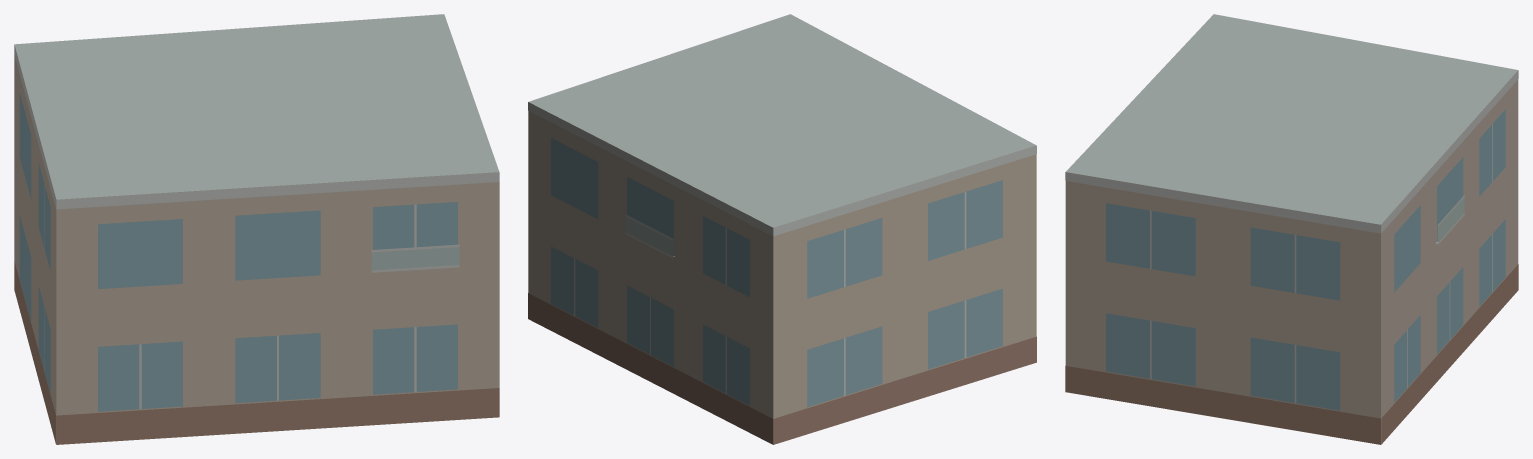
The model's file is survey-upis-32657916.glb.
The picture shows the model from 3 angles, left to right: view 1: azimuth 30°, elevation 25°; view 2: azimuth 150°, elevation 25°; view 3: azimuth 270°, elevation 25°; orthographic projection. The views are drawn at different scales.
Visible parts, largest first — view 1: survey-upis-32657916.tmp; view 2: survey-upis-32657916.tmp; view 3: survey-upis-32657916.tmp.
Part boxes in pixels (x1=…): survey-upis-32657916.tmp: x1=14, y1=14, x2=499, y2=444; survey-upis-32657916.tmp: x1=528, y1=14, x2=1036, y2=444; survey-upis-32657916.tmp: x1=1065, y1=14, x2=1518, y2=444.
Bounding box in the file's own units: 12.54 × 6.1 × 11.39.
